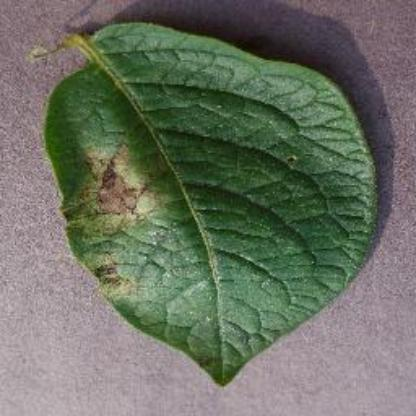Late-Blight: (26, 13, 388, 389)
